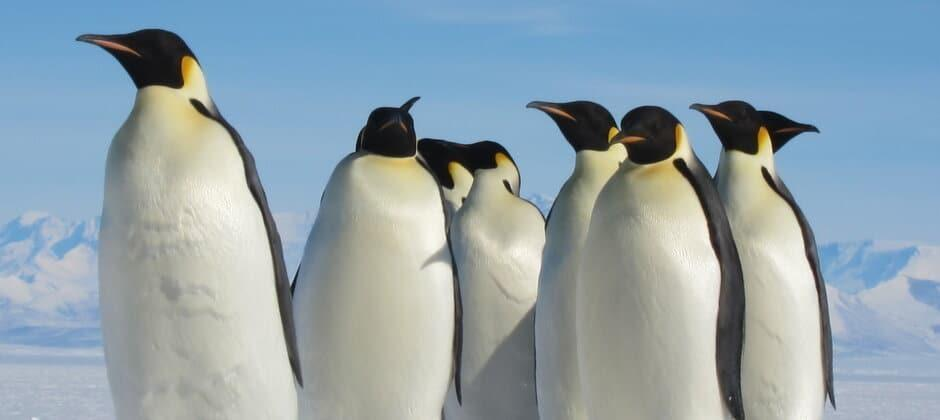Penguin: (78, 29, 301, 417), (292, 99, 462, 418), (576, 105, 745, 419), (689, 100, 835, 418), (526, 100, 627, 418), (443, 141, 546, 419), (417, 138, 474, 227), (759, 111, 820, 153)
